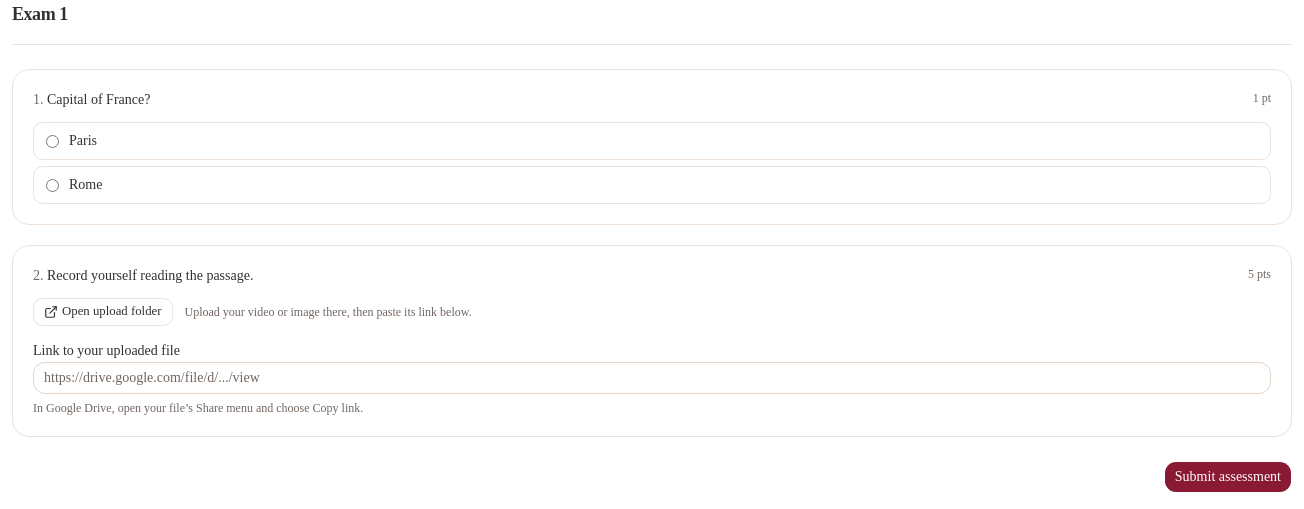
AttemptForm with a file upload question › warns as soon as the pasted link is not a Drive file
Type "my-video.mp4" into the field labelled "Link to your uploaded file" at (652,378), box left=33, top=362, right=1271, bottom=394
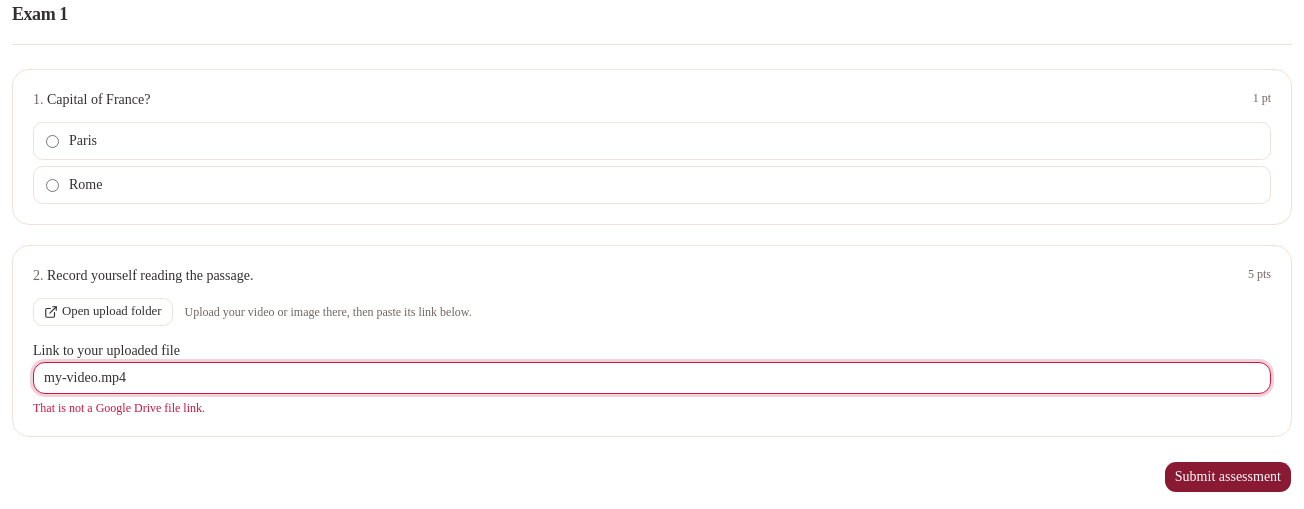
Check: the text "That is not a Google Drive file link." is shown, box left=33, top=401, right=205, bottom=415
